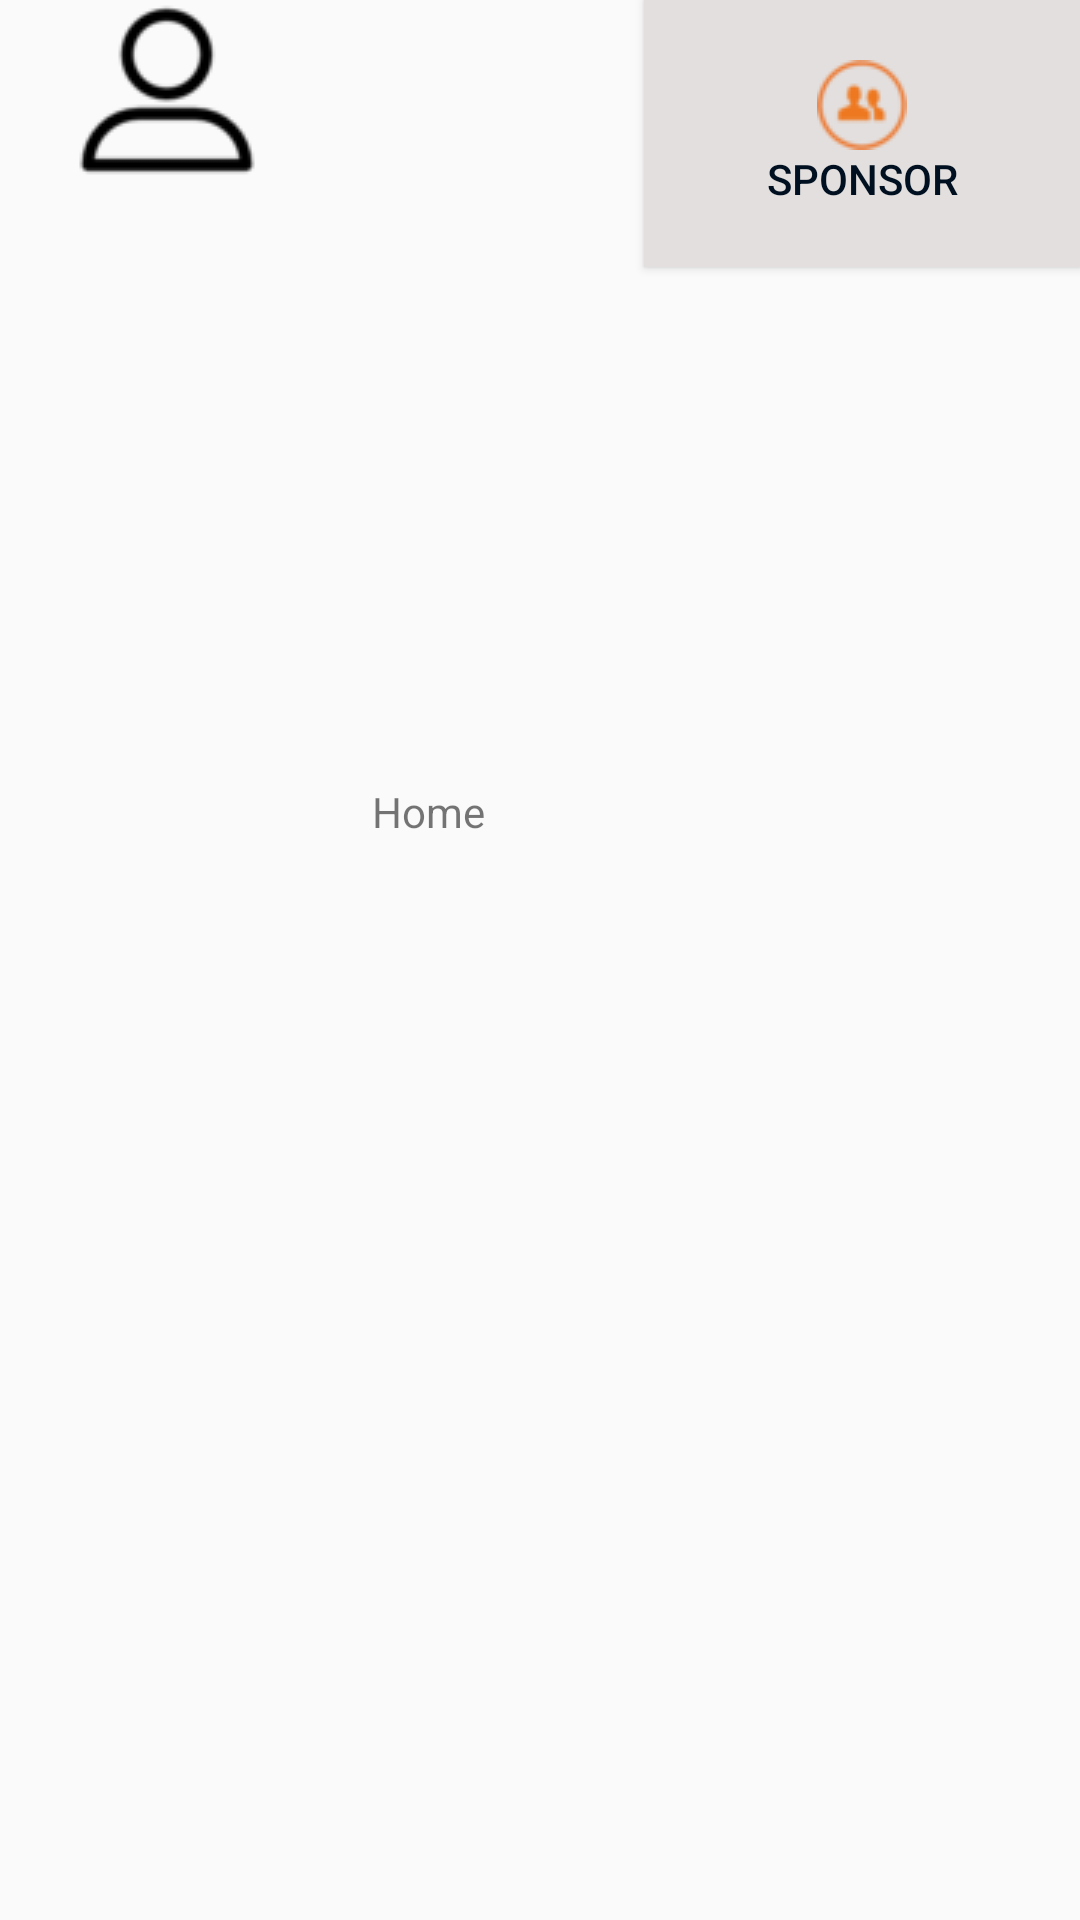

Screen size 1080x1920. Icon name, then its box in pixels as region(x1, y1, x2, y2):
img profile: region(79, 7, 255, 173)
